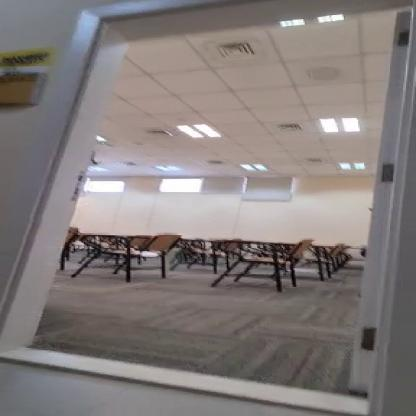open: (8, 0, 412, 415)
